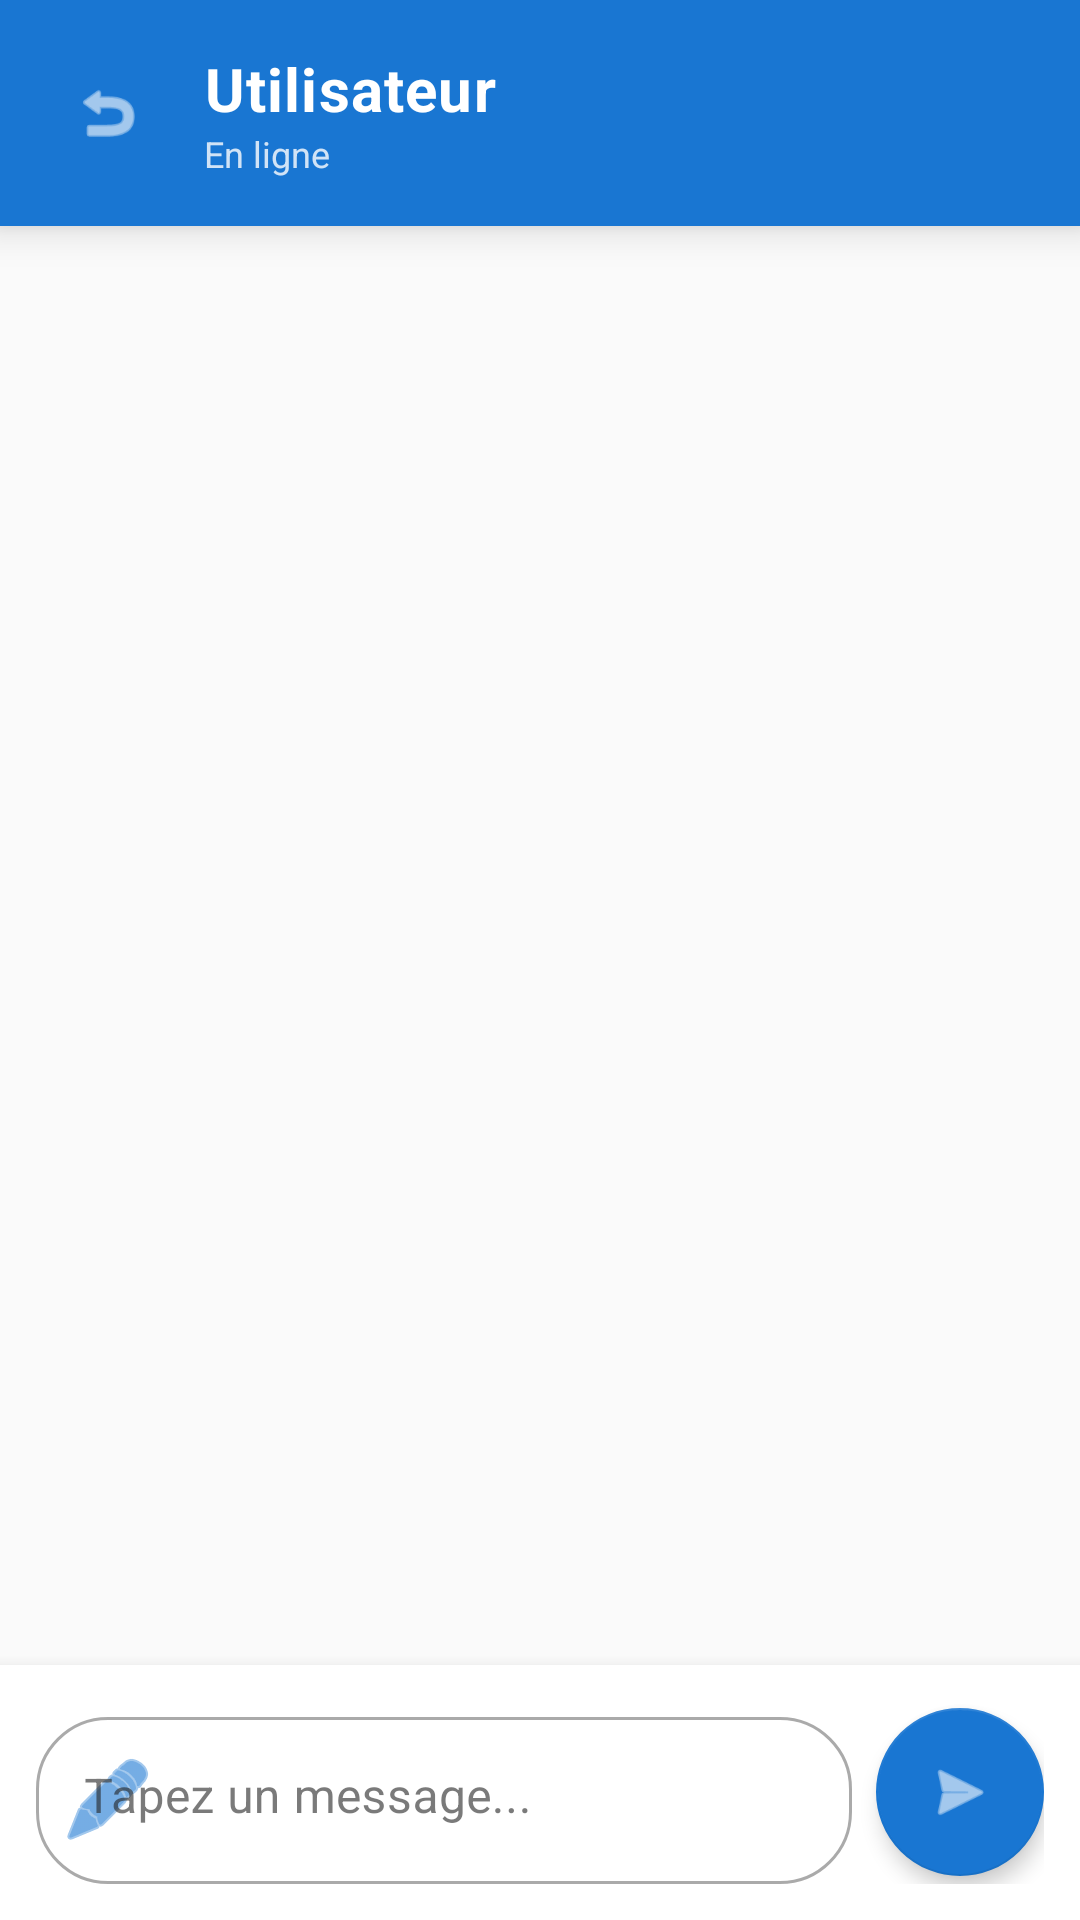

Locate icon controls on the screen. Image size 1080x1920, boxes as (x1, y1, x2, y2).
Envoyer: (876, 1708, 1044, 1876)
Retour: (83, 90, 135, 137)
